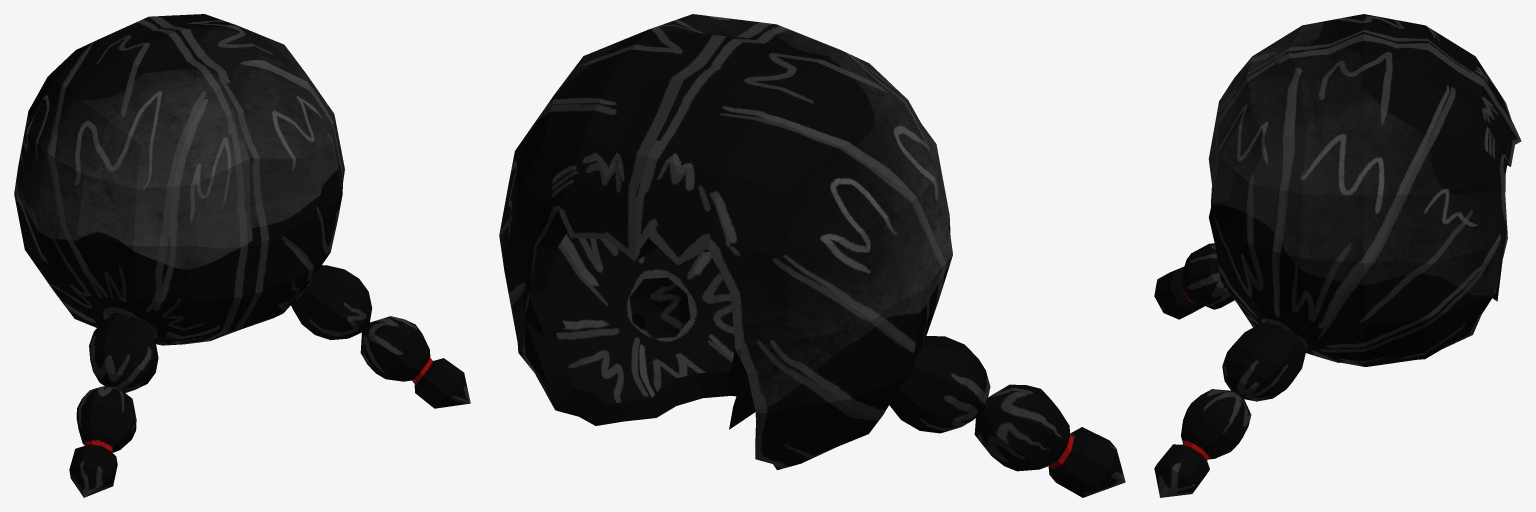
File: hair_3.fbx
3 views of the same model, side by side, from view 1: azimuth 30°, elevation 25°; view 2: azimuth 150°, elevation 25°; view 3: azimuth 270°, elevation 25° (orthographic). The views are drawn at different scales.
Parts seen in each view (by area): view 1: Hair3; view 2: Hair3; view 3: Hair3.
Part boxes in pixels (left/top/right/bottom): Hair3: left=14, top=14, right=470, bottom=497; Hair3: left=499, top=14, right=1125, bottom=497; Hair3: left=1154, top=14, right=1521, bottom=497.
Size of the model in its own units: 228 by 198 by 177.
